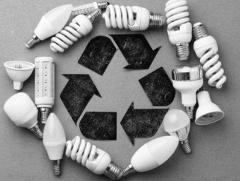lightbulb: (3, 0, 227, 180), (65, 134, 179, 180), (192, 22, 226, 88), (25, 4, 73, 48), (4, 92, 42, 138), (130, 136, 178, 172), (164, 0, 192, 60), (42, 112, 66, 176), (162, 109, 192, 154), (171, 64, 203, 106), (194, 90, 224, 126), (3, 60, 34, 90)
